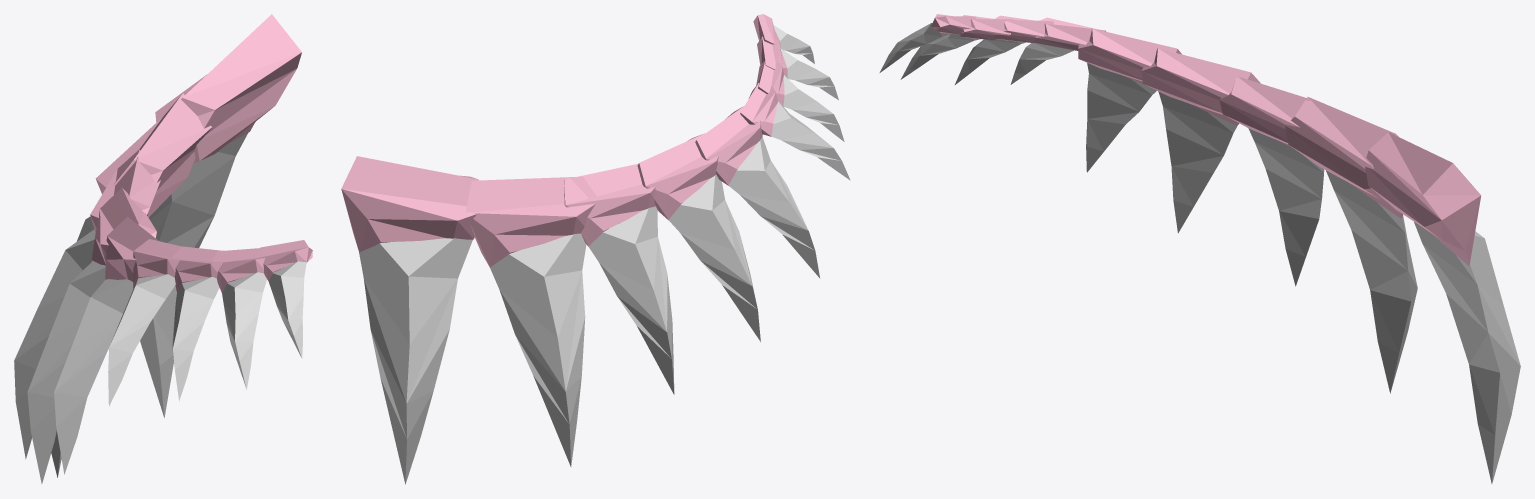
The model's file is Ribs of Teeth.obj.
The picture shows the model from 3 angles, left to right: view 1: azimuth 30°, elevation 25°; view 2: azimuth 150°, elevation 25°; view 3: azimuth 270°, elevation 25°; orthographic projection. The views are drawn at different scales.
Parts seen in each view (by area): view 1: group1035787740, group1688784022, group530824527, group998101702, group46180860, group1513417120, group1348373432, group1527949928, group1978742188, group2039307575, group2073799731, group583642357 (+6 smaller); view 2: group1688784022, group2041456493, group1035787740, group46180860, group1513417120, group998101702, group530824527, group160464841, group2073799731, group583642357, group1348373432, group1527949928 (+5 smaller); view 3: group1688784022, group1035787740, group2041456493, group46180860, group998101702, group1513417120, group2073799731, group530824527, group160464841, group583642357, group1518106180, group1527949928 (+6 smaller).
Boxes of the visible parts, left/top/right/bottom form: group1035787740: left=155, top=14, right=301, bottom=163; group1688784022: left=140, top=133, right=247, bottom=418; group530824527: left=54, top=279, right=133, bottom=474; group998101702: left=27, top=261, right=105, bottom=484; group46180860: left=95, top=93, right=211, bottom=217; group1513417120: left=14, top=229, right=95, bottom=459; group1348373432: left=108, top=274, right=175, bottom=406; group1527949928: left=172, top=277, right=219, bottom=401; group1978742188: left=222, top=272, right=266, bottom=389; group2039307575: left=269, top=261, right=306, bottom=358; group2073799731: left=91, top=187, right=156, bottom=265; group583642357: left=105, top=216, right=158, bottom=281; group1688784022: left=359, top=238, right=472, bottom=484; group2041456493: left=490, top=233, right=586, bottom=467; group1035787740: left=341, top=156, right=478, bottom=252; group46180860: left=465, top=176, right=597, bottom=267; group1513417120: left=588, top=206, right=674, bottom=394; group998101702: left=668, top=174, right=760, bottom=341; group530824527: left=728, top=137, right=820, bottom=278; group160464841: left=564, top=163, right=655, bottom=246; group2073799731: left=637, top=133, right=718, bottom=219; group583642357: left=695, top=106, right=762, bottom=185; group1348373432: left=771, top=101, right=850, bottom=180; group1527949928: left=783, top=75, right=844, bottom=141; group1688784022: left=1414, top=222, right=1520, bottom=483; group1035787740: left=1365, top=132, right=1481, bottom=266; group2041456493: left=1326, top=170, right=1417, bottom=393; group46180860: left=1285, top=96, right=1402, bottom=218; group998101702: left=1158, top=91, right=1237, bottom=233; group1513417120: left=1248, top=128, right=1324, bottom=286; group2073799731: left=1141, top=48, right=1260, bottom=125; group530824527: left=1086, top=63, right=1156, bottom=172; group160464841: left=1219, top=77, right=1312, bottom=148; group583642357: left=1078, top=28, right=1181, bottom=84; group1518106180: left=1034, top=17, right=1105, bottom=50; group1527949928: left=955, top=39, right=1025, bottom=84.
Bounding box in the file's own units: 0.7231 × 0.7068 × 1.04.
